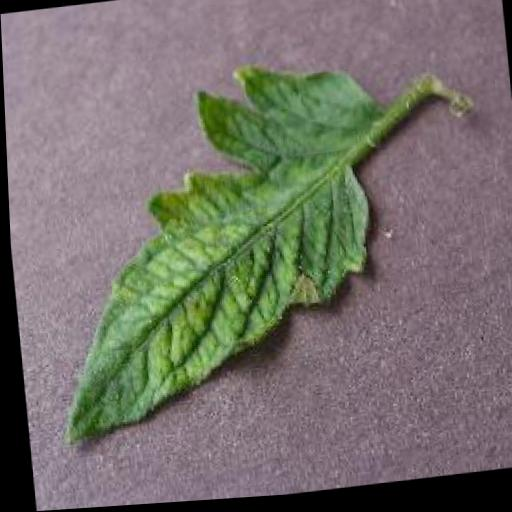Mosaic Virus: (30, 55, 406, 461)
